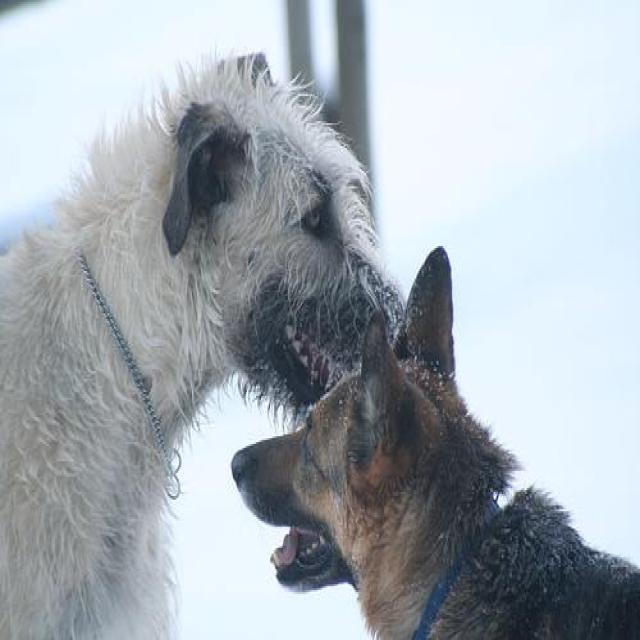irish_wolfhound: (0, 35, 401, 638)
